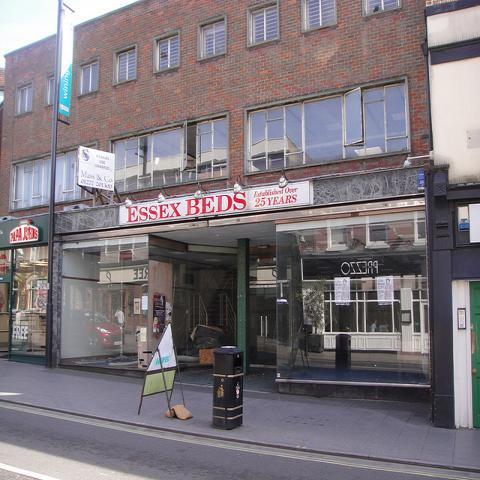car: (70, 308, 125, 348)
